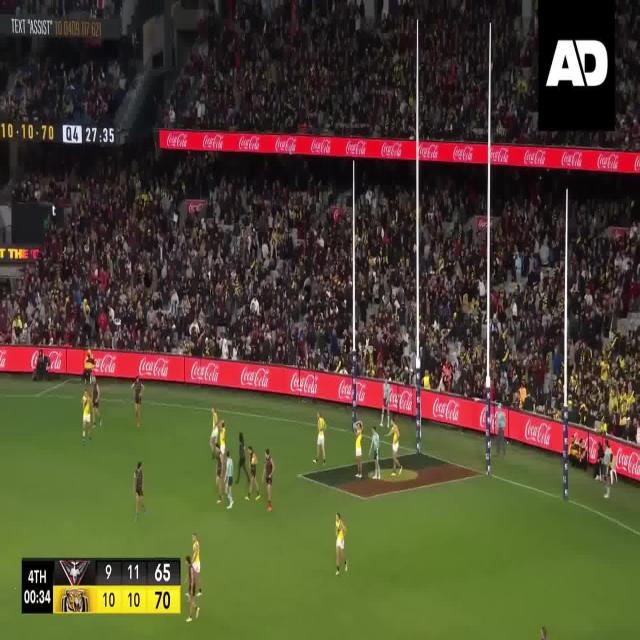crowd: (1, 154, 351, 369), (159, 0, 640, 156), (570, 189, 639, 440), (492, 178, 563, 418), (420, 164, 485, 400), (355, 164, 416, 382), (0, 54, 132, 124), (1, 0, 119, 19)
